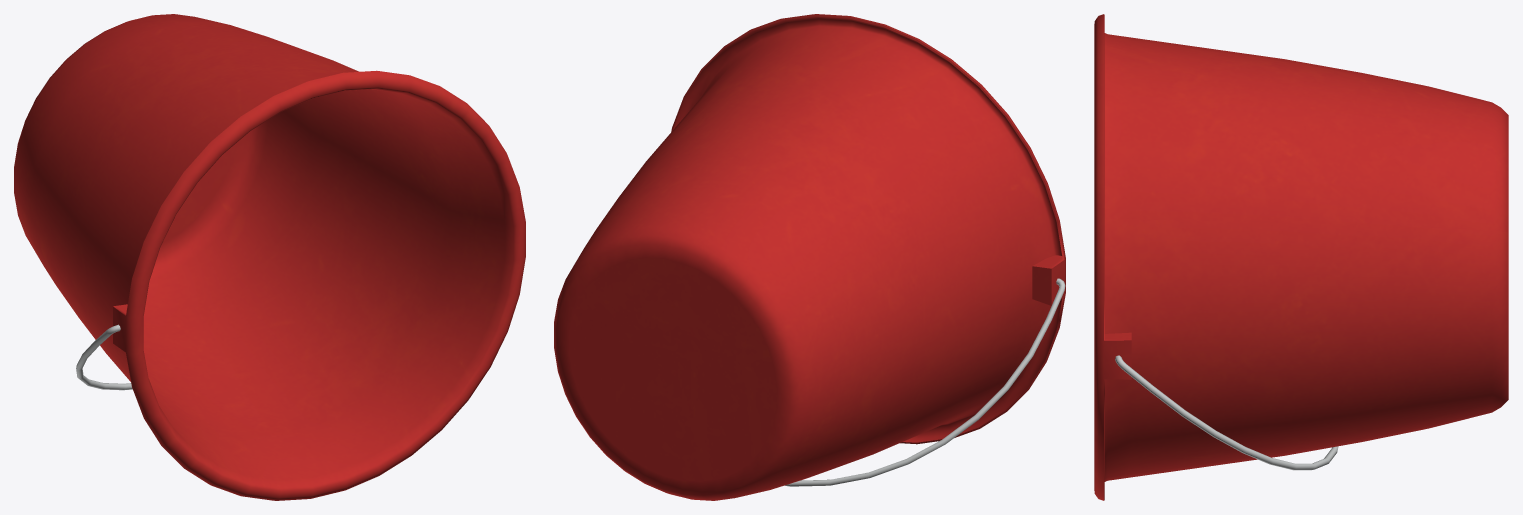
File: cc0---bucket-3-cb4846.glb
3 views of the same model, side by side, from view 1: azimuth 30°, elevation 25°; view 2: azimuth 150°, elevation 25°; view 3: azimuth 270°, elevation 25° (orthographic). The views are drawn at different scales.
Parts seen in each view (by area): view 1: PropMesh; view 2: PropMesh; view 3: PropMesh.
Part boxes in pixels (x1,y1,x2,y2): PropMesh: [14, 14, 525, 500]; PropMesh: [554, 14, 1065, 500]; PropMesh: [1094, 14, 1508, 500].
Bounding box in the file's own units: 2.31 × 2.2 × 1.88.
1 material, 1 textured.
